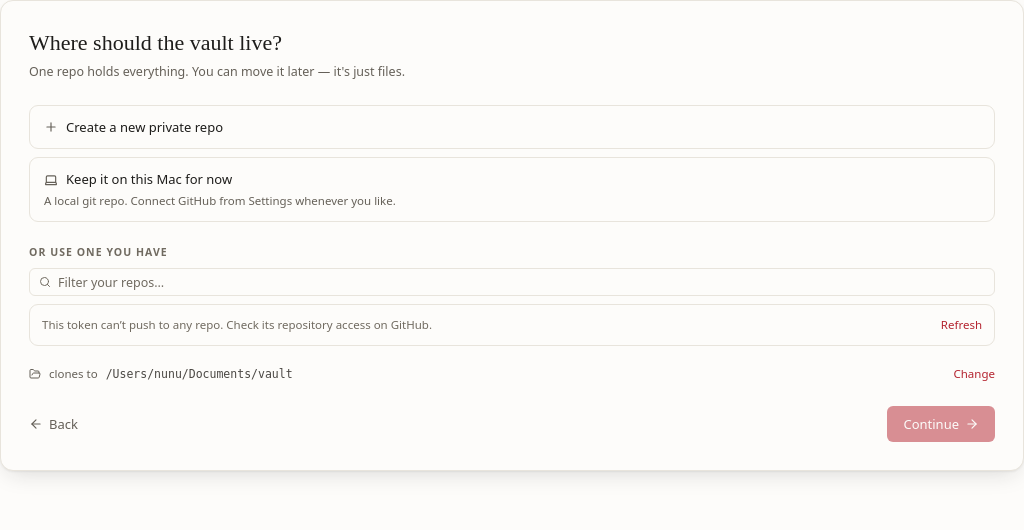
RepoPicker — signed in with a pasted token › a 403 from create says what to do, moves to the list and refreshes it
Expected: the text "This token can’t push to any repo" is shown, x1=42 y1=317 x2=432 y2=332
Click the radio button labelled "Create a new private repo". click: coordinates (134, 127)
box: x1=44 y1=118 x2=223 y2=136
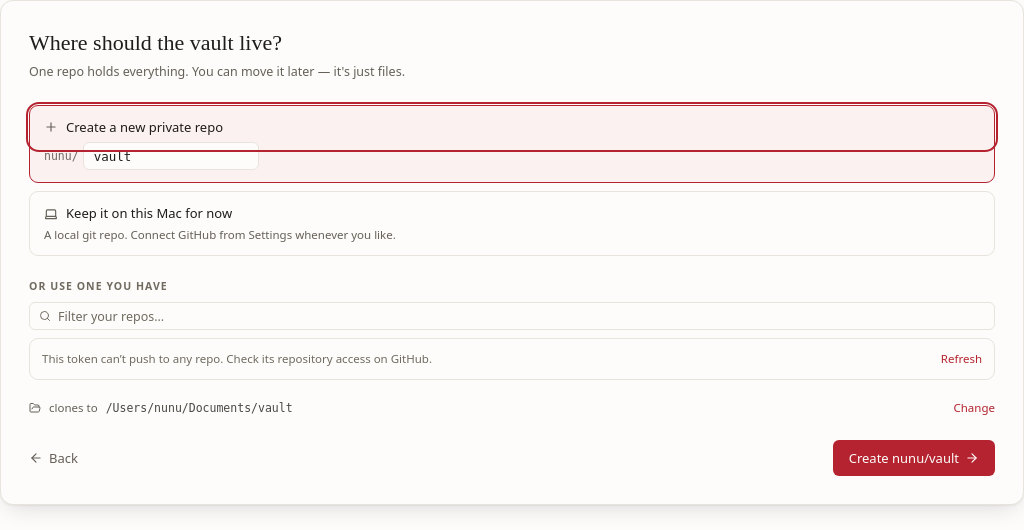
Click the button "Create nunu/vault". click: coordinates (914, 458)
box: x1=833 y1=440 x2=995 y2=476
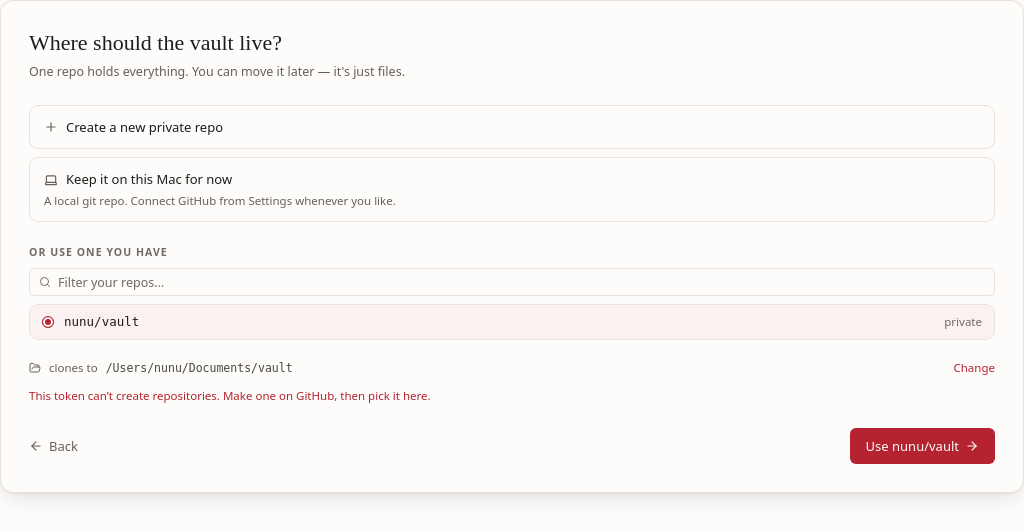
Now the text "This token can’t create repositories. Make one on GitHub, then pick it here." is shown, box x1=29 y1=388 x2=431 y2=403
Now the text "nunu/vault" is shown, box x1=64 y1=313 x2=139 y2=331
